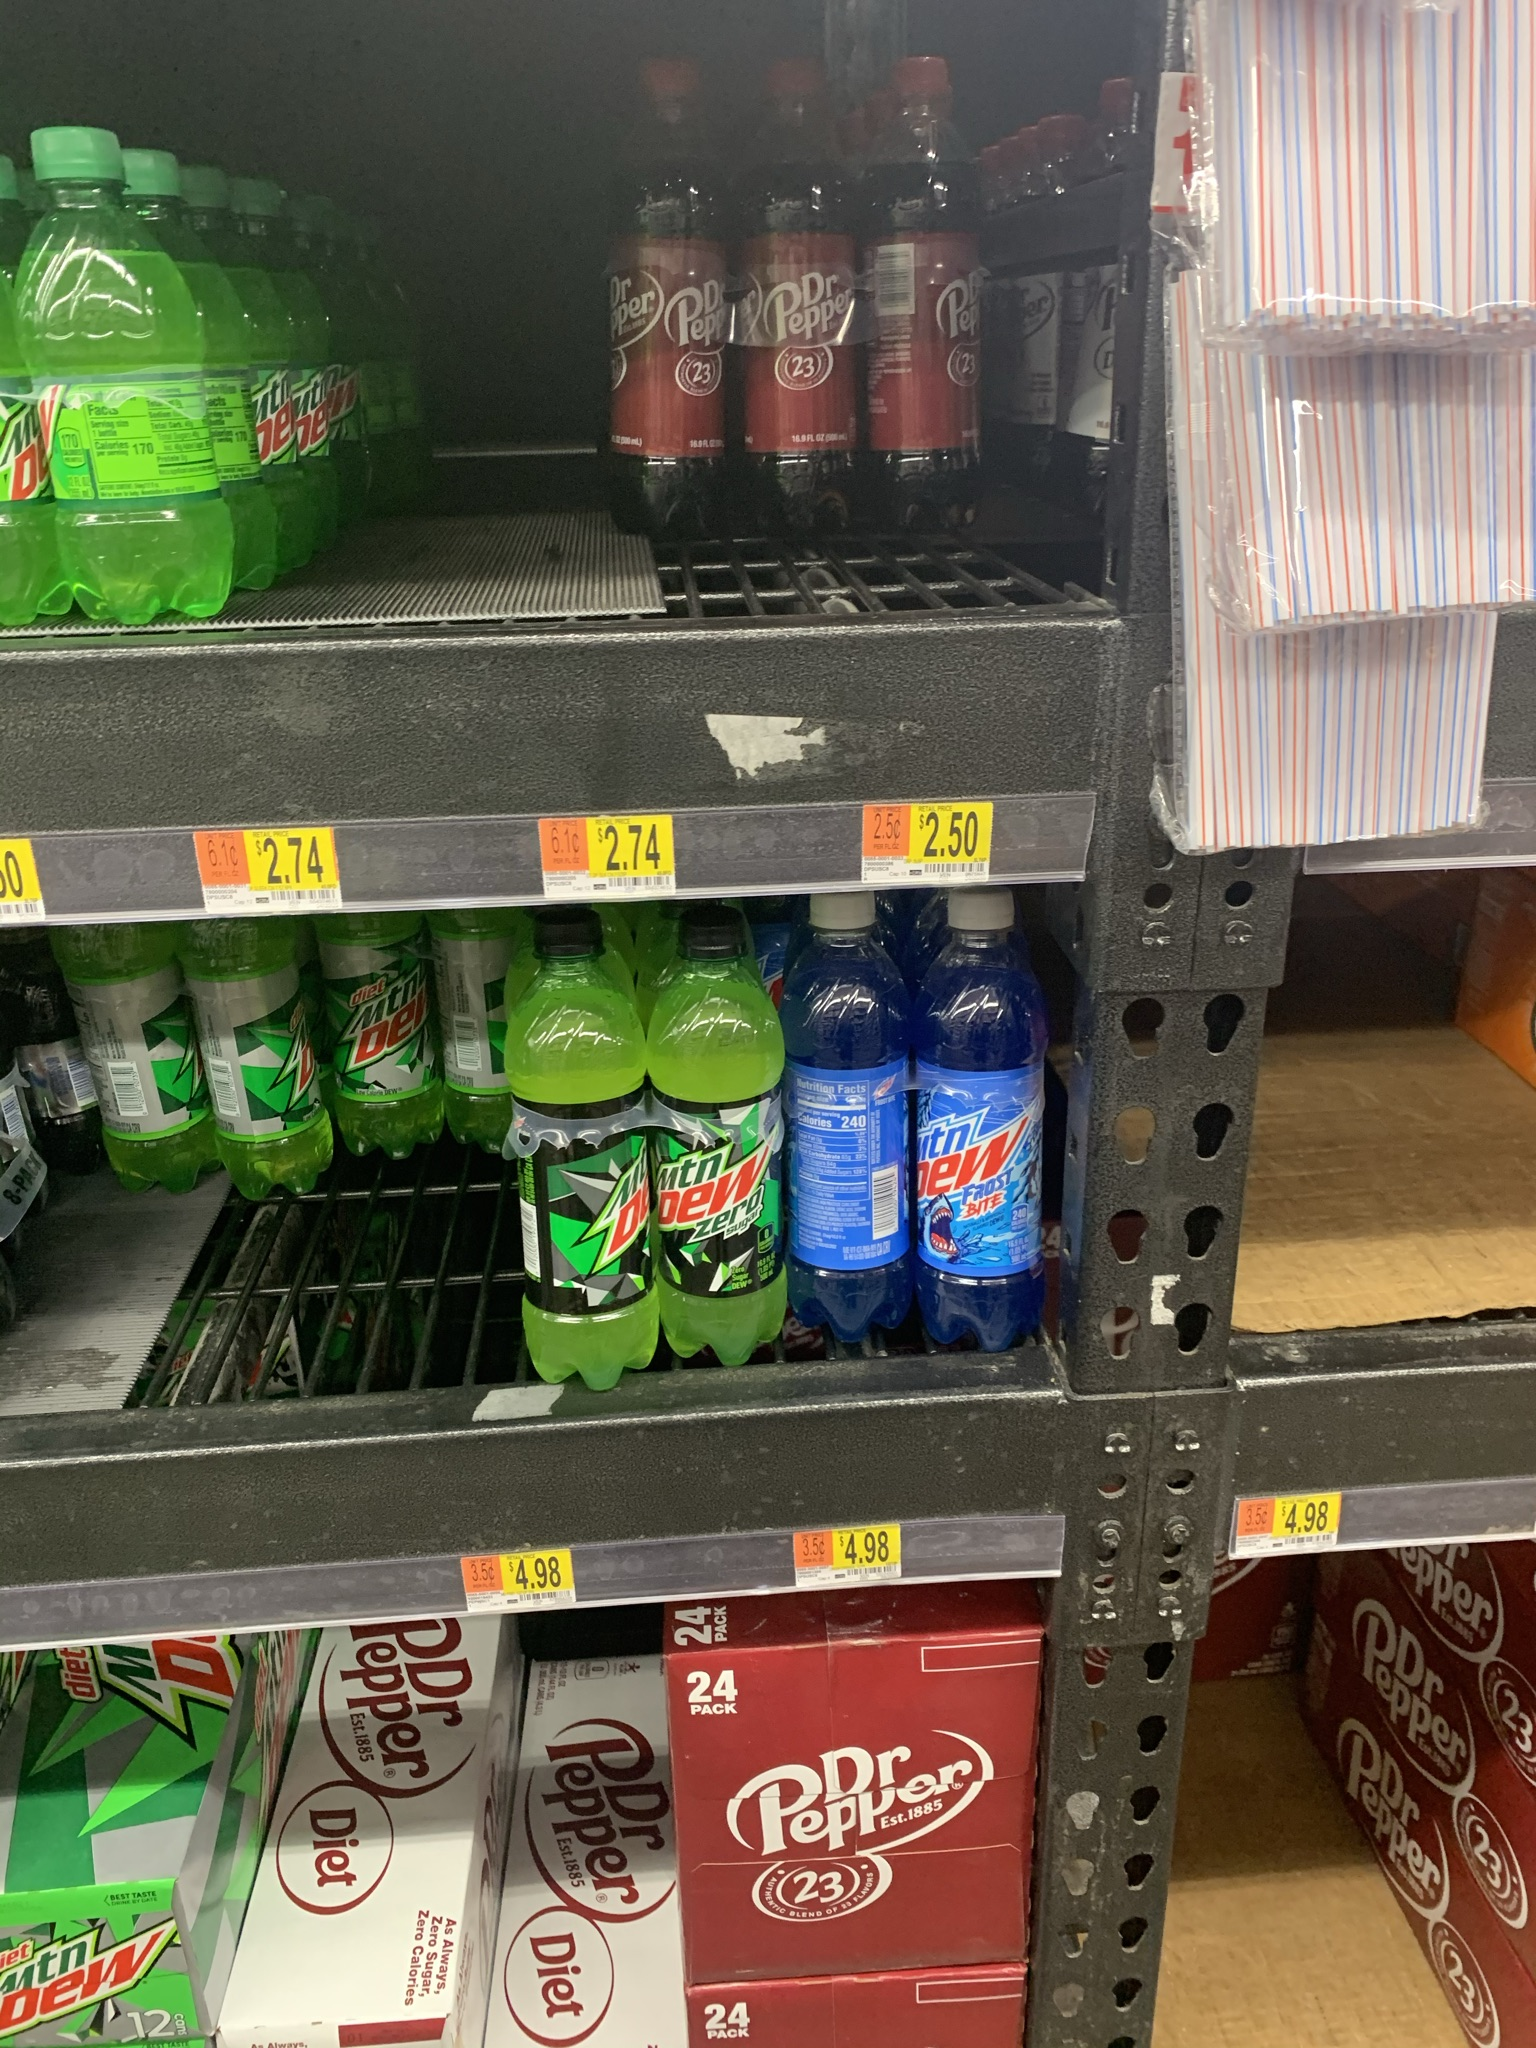dr pepper soda: (637, 71, 1002, 524), (678, 1669, 1028, 1964), (528, 1671, 694, 2048), (328, 1630, 458, 2037)
mountain dew soda: (27, 139, 416, 585), (534, 943, 787, 1384), (812, 914, 1039, 1316), (87, 935, 470, 1124)
